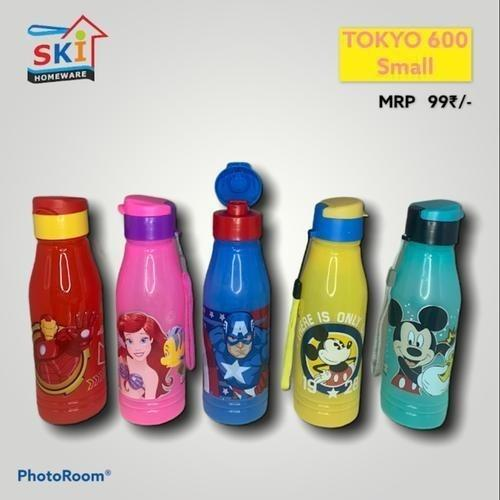gym bottle: (377, 197, 466, 431), (26, 194, 109, 426), (289, 195, 370, 430), (113, 193, 192, 427), (199, 198, 273, 427)
